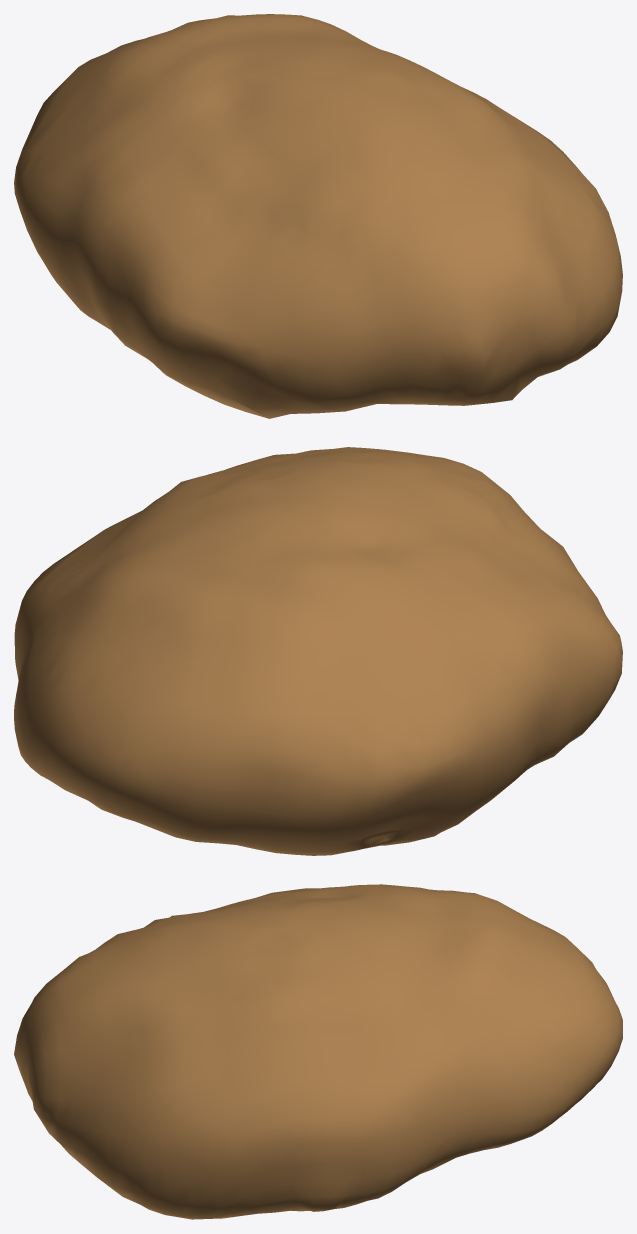
The model's file is pogaca.fbx.
3 views of the same model, one above another, from view 1: azimuth 30°, elevation 25°; view 2: azimuth 150°, elevation 25°; view 3: azimuth 270°, elevation 25° (orthographic). The views are drawn at different scales.
Parts seen in each view (by area): view 1: Pogaca; view 2: Pogaca; view 3: Pogaca.
Boxes of the visible parts, left/top/right/bottom form: Pogaca: left=14, top=14, right=622, bottom=418; Pogaca: left=14, top=447, right=622, bottom=855; Pogaca: left=14, top=884, right=622, bottom=1219.
Bounding box in the file's own units: 0.1983 × 0.1004 × 0.2505.
